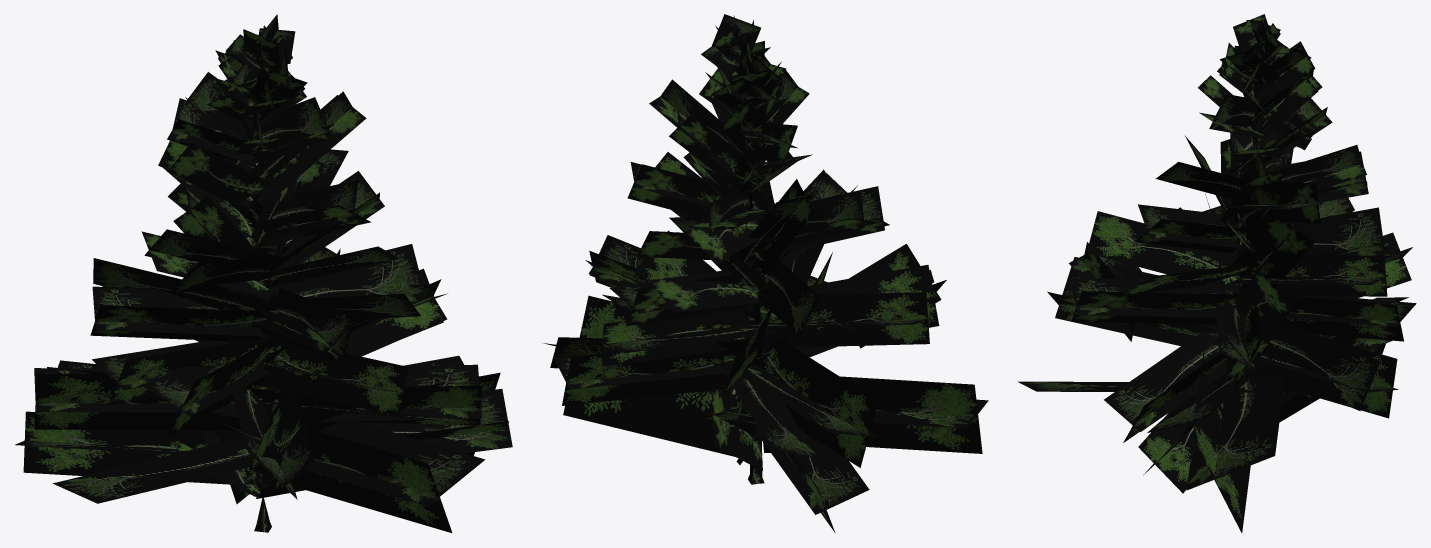
The model's file is ash_summer.glb.
The picture shows the model from 3 angles, left to right: view 1: azimuth 30°, elevation 25°; view 2: azimuth 150°, elevation 25°; view 3: azimuth 270°, elevation 25°; orthographic projection. The views are drawn at different scales.
Visible parts, largest first — view 1: 2_Leaves; view 2: 2_Leaves, 1_Trunk; view 3: 2_Leaves.
Part boxes in pixels (box(x1,y1,x2,y2)): 2_Leaves: box(15, 14, 512, 532); 2_Leaves: box(543, 14, 988, 532); 1_Trunk: box(734, 16, 764, 484); 2_Leaves: box(1018, 14, 1416, 532).
Size of the model in its own units: 228 by 253 by 204.
1 material, 1 textured.
